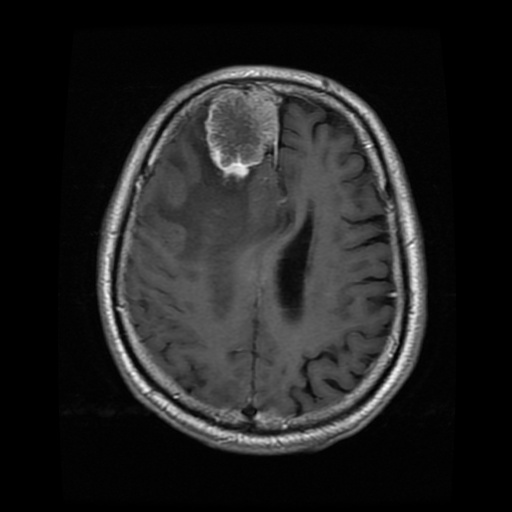meningioma: (206, 87, 280, 178)
